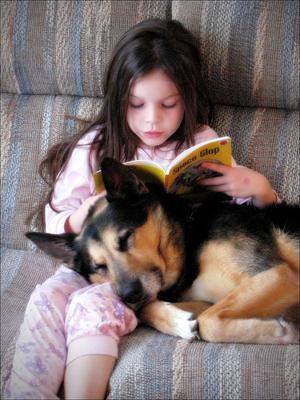person: (5, 20, 284, 400)
